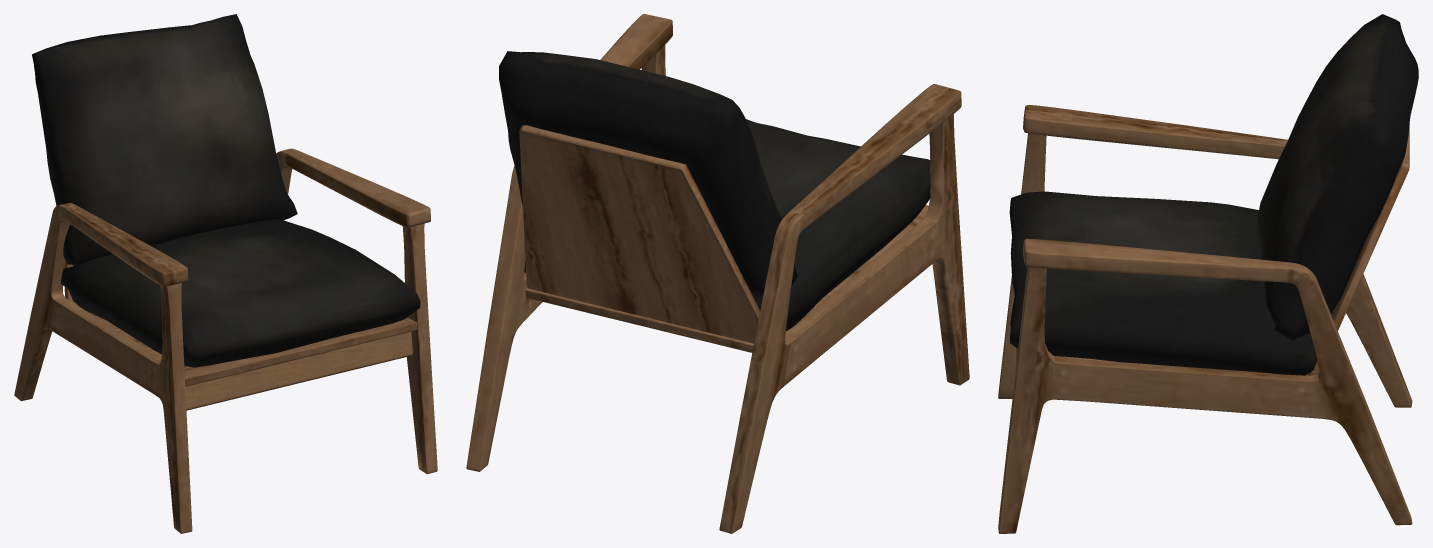
File: armchair.glb
3 views of the same model, side by side, from view 1: azimuth 30°, elevation 25°; view 2: azimuth 150°, elevation 25°; view 3: azimuth 270°, elevation 25° (orthographic). The views are drawn at different scales.
Parts seen in each view (by area): view 1: modern_arm_chair_01; view 2: modern_arm_chair_01; view 3: modern_arm_chair_01.
Boxes of the visible parts, x1,y1,x2,y2 form: modern_arm_chair_01: (14, 14, 437, 533); modern_arm_chair_01: (466, 14, 969, 533); modern_arm_chair_01: (998, 14, 1418, 533).
Size of the model in its own units: 0.8203 by 1.02 by 0.9866.
Materials: 2 (2 with a texture image).
